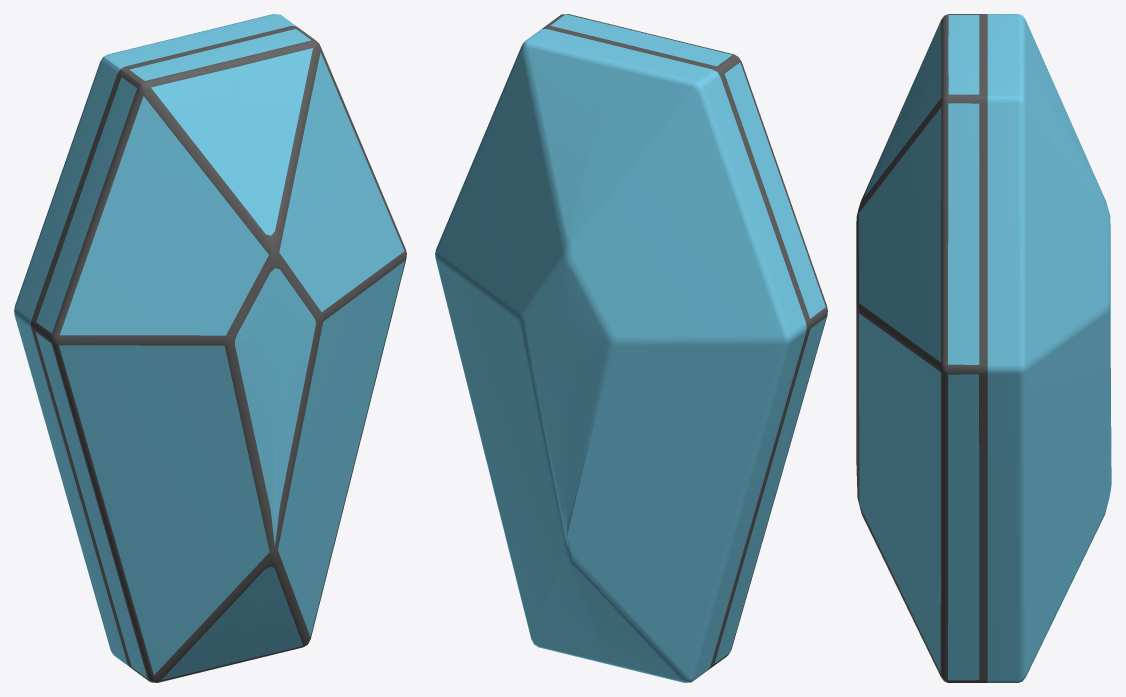
Rendered from Sapphire Jewell.fbx.
3 renders of one model, left to right at view 1: azimuth 30°, elevation 25°; view 2: azimuth 150°, elevation 25°; view 3: azimuth 270°, elevation 25°, orthographic.
Visible parts, largest first — view 1: Sapphire_Golem1_sapphire.001; view 2: Sapphire_Golem1_sapphire.001; view 3: Sapphire_Golem1_sapphire.001.
Boxes of the visible parts, bbox=[...] form: Sapphire_Golem1_sapphire.001: bbox=[14, 14, 406, 682]; Sapphire_Golem1_sapphire.001: bbox=[435, 14, 827, 682]; Sapphire_Golem1_sapphire.001: bbox=[856, 14, 1111, 682].
Bounding box in the file's own units: 571 × 928 × 362.
